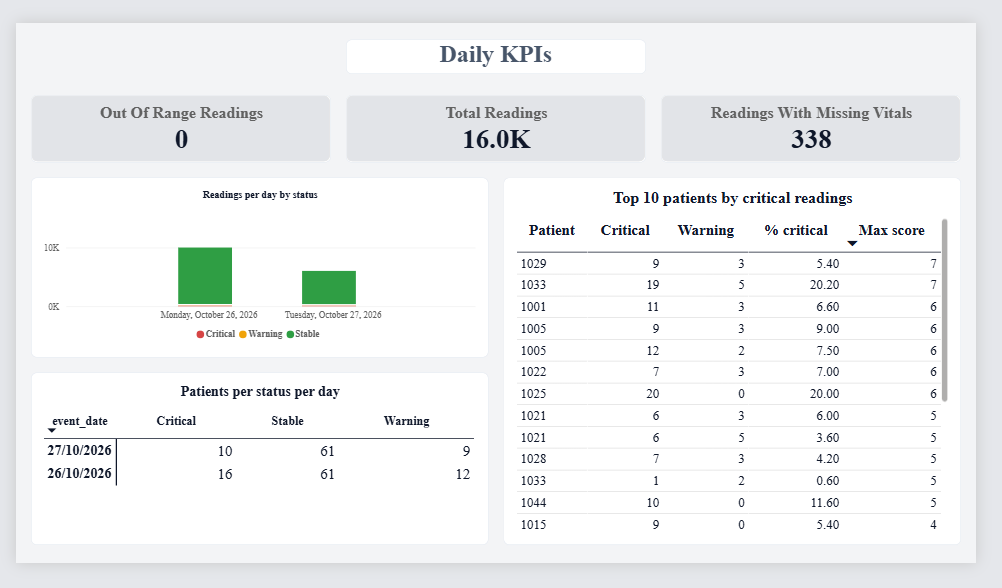

What the dashboard file says about the page in this screenshot:
{"tool":"powerbi","page":{"name":"Daily KPIs","canvas":[1280,720],"ordinal":2},"visuals":[{"type":"textbox","box":[440,22,400,46],"z":0},{"type":"cardVisual","fields":{"Data":["_Measures.Out Of Range Readings"]},"box":[20,95,400,90],"z":1000},{"type":"cardVisual","fields":{"Data":["_Measures.Total Readings"]},"box":[440,95,400,90],"z":2000},{"type":"cardVisual","fields":{"Data":["_Measures.Readings With Missing Vitals"]},"box":[860,95,400,90],"z":3000},{"type":"columnChart","title":"Readings per day by status","fields":{"Category":["gold_daily_patient_kpi.event_date"],"Y":["Sum(gold_daily_patient_kpi.critical_readings)","Sum(gold_daily_patient_kpi.warning_readings)","Sum(gold_daily_patient_kpi.stable_readings)"]},"box":[20,205,610,240],"z":4000},{"type":"pivotTable","title":"Patients per status per day","fields":{"Columns":["gold_critical_status_summary.patient_status"],"Rows":["gold_critical_status_summary.event_date"],"Values":["Sum(gold_critical_status_summary.patients_count)"]},"box":[20,465,610,230],"z":5000},{"type":"tableEx","title":"Top 10 patients by critical readings","fields":{"Values":["gold_daily_patient_kpi.patient_id","gold_daily_patient_kpi.critical_readings","gold_daily_patient_kpi.warning_readings","gold_daily_patient_kpi.pct_readings_critical","gold_daily_patient_kpi.max_score"]},"box":[650,206,610,490],"z":6000}]}

Visuals, with their boxes on the page's 1280x720 design canvas (x1, y1, x2, y2). These are canvas units, not pixel positions in the 1002x588 screenshot, which may show the page scaled, cropped or inside an application window:
textbox: 440/22/840/68
cardVisual - _Measures.Out Of Range Readings: 20/95/420/185
cardVisual - _Measures.Total Readings: 440/95/840/185
cardVisual - _Measures.Readings With Missing Vitals: 860/95/1260/185
"Readings per day by status" columnChart: 20/205/630/445
"Patients per status per day" pivotTable: 20/465/630/695
"Top 10 patients by critical readings" tableEx: 650/206/1260/696
